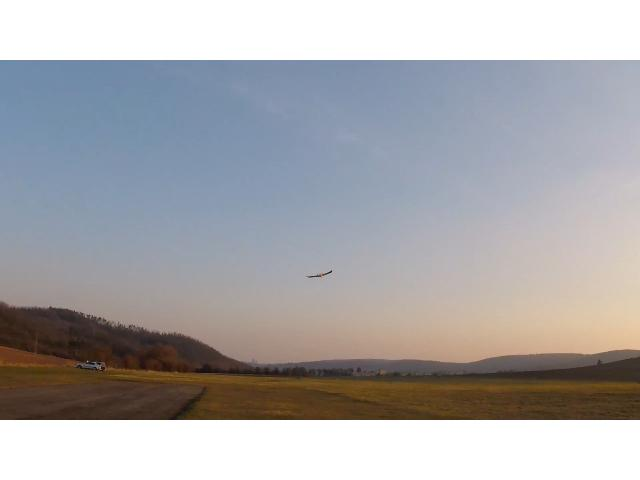Anti-Drone: (308, 270, 332, 278)
